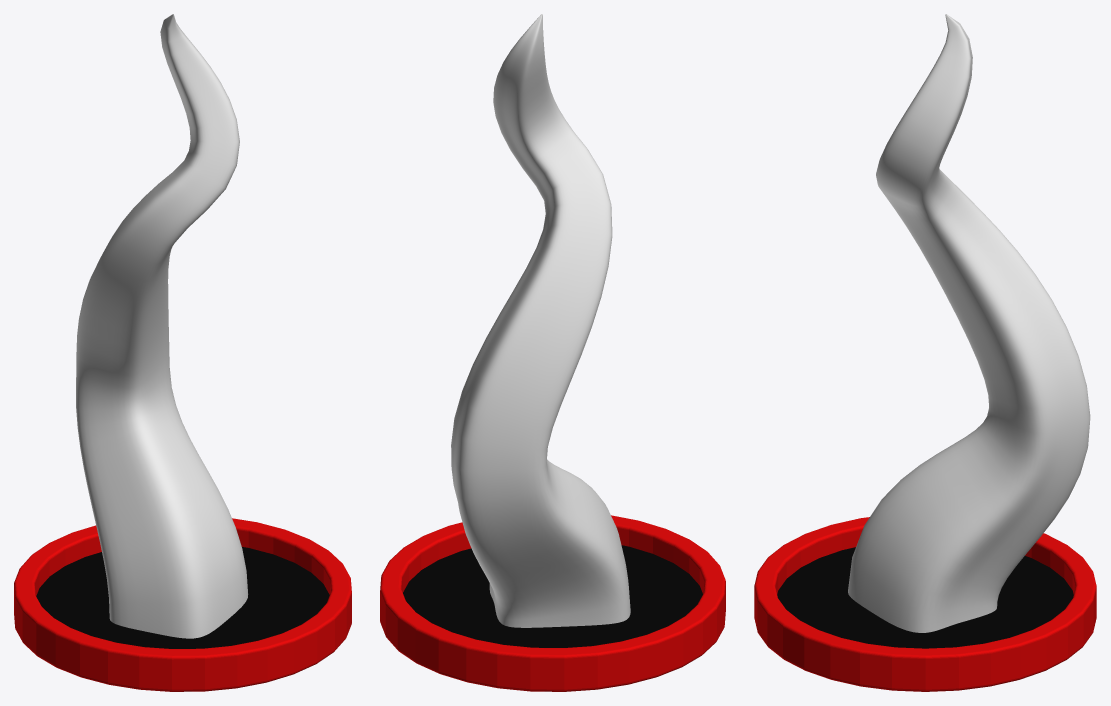
The model's file is tentacle 2 met animatie.fbx.
The picture shows the model from 3 angles, left to right: view 1: azimuth 30°, elevation 25°; view 2: azimuth 150°, elevation 25°; view 3: azimuth 270°, elevation 25°; orthographic projection. The views are drawn at different scales.
Visible parts, largest first — view 1: BezierCurve, Circle; view 2: BezierCurve, Circle; view 3: BezierCurve, Circle.
Part boxes in pixels (bbox=[...]): BezierCurve: bbox=[76, 14, 248, 638]; Circle: bbox=[14, 518, 351, 691]; BezierCurve: bbox=[451, 14, 630, 627]; Circle: bbox=[380, 515, 725, 691]; BezierCurve: bbox=[848, 14, 1090, 632]; Circle: bbox=[754, 517, 1096, 691].
Size of the model in its own units: 358 by 700 by 358.
